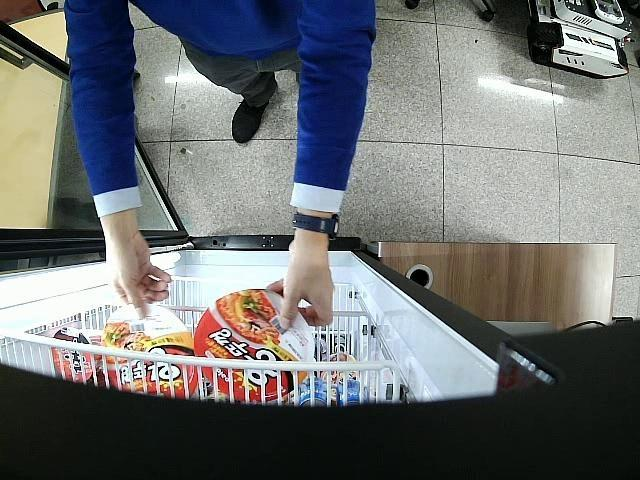10_wangTtukkeong: (194, 290, 316, 400), (100, 302, 198, 398)
